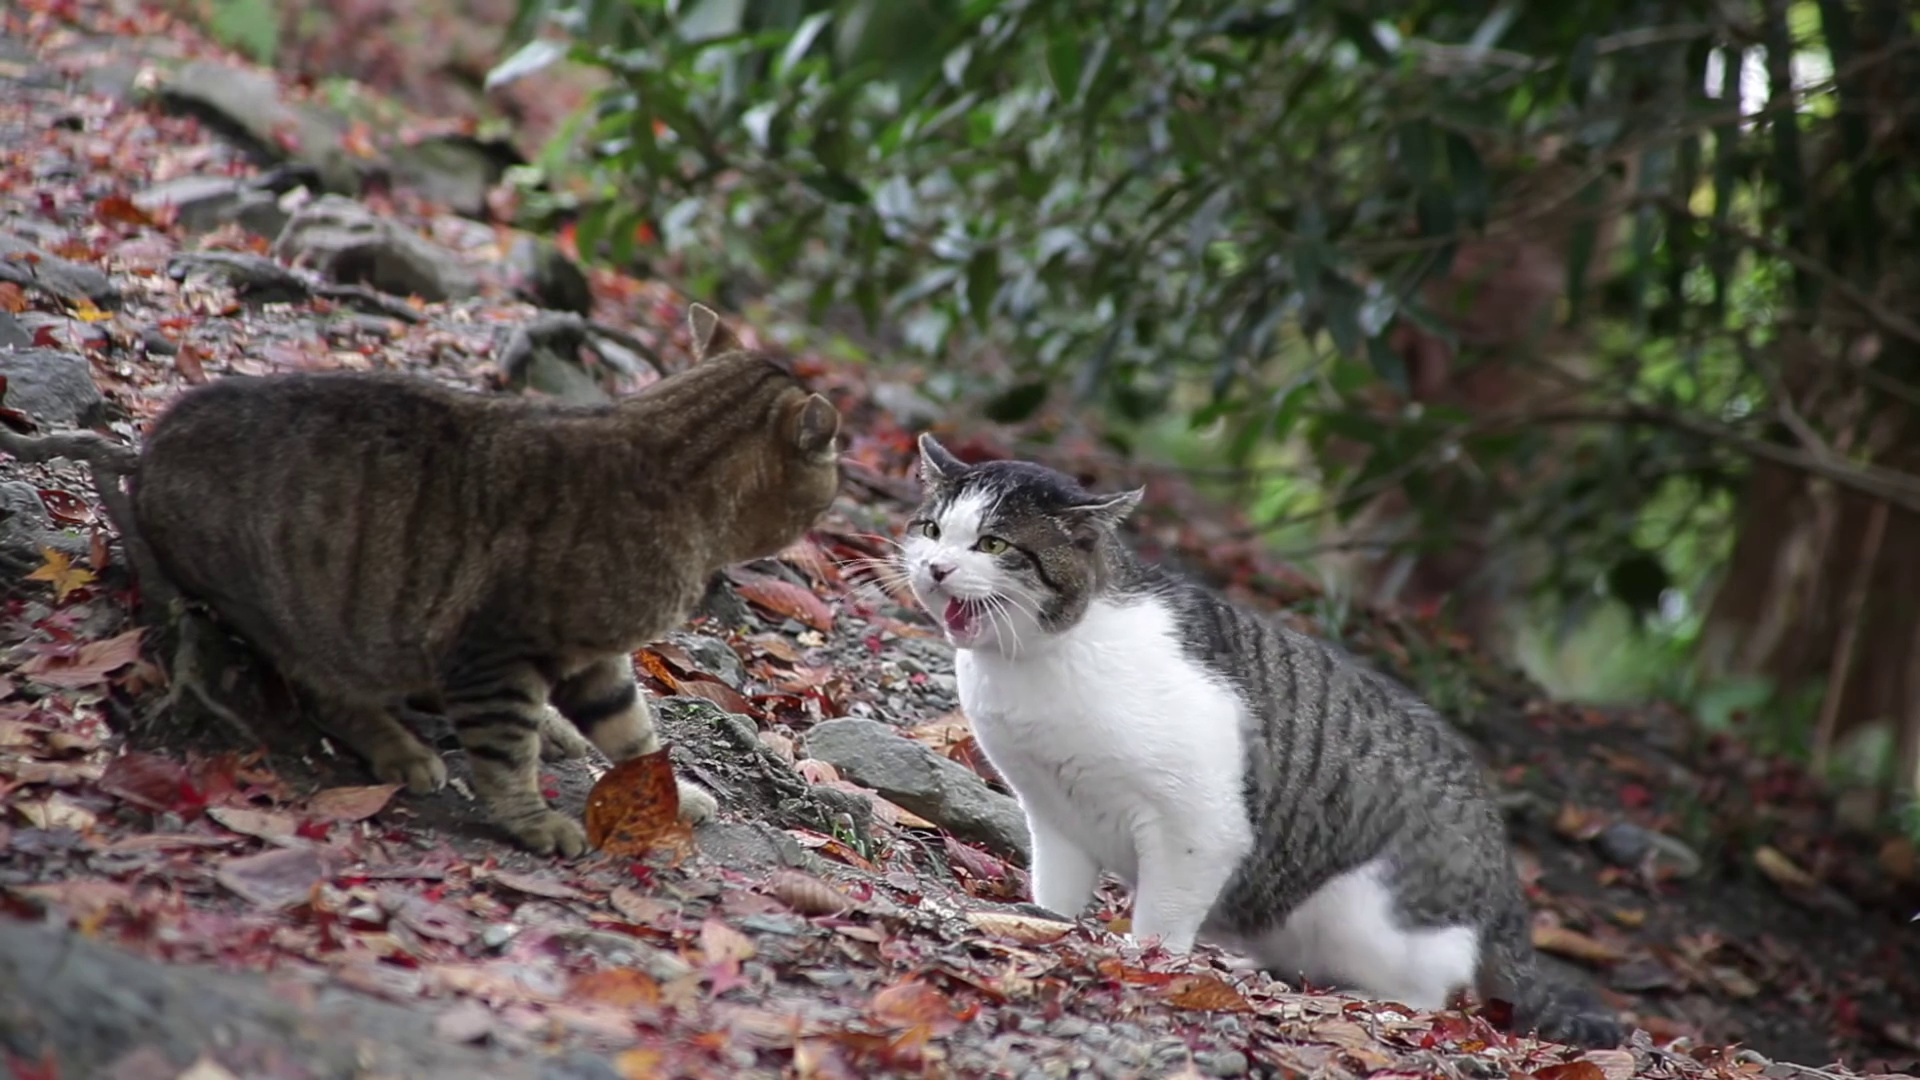black-white: (898, 433, 1523, 1009)
pure black: (131, 302, 837, 862)
